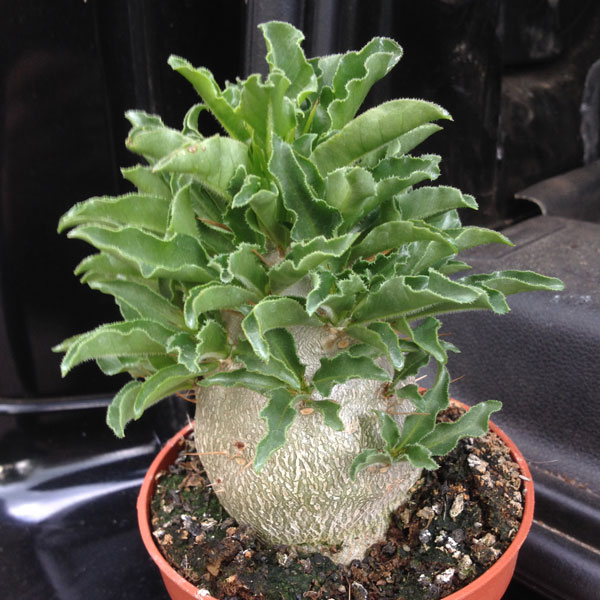Pachypodium saundersii: (79, 20, 542, 560)
